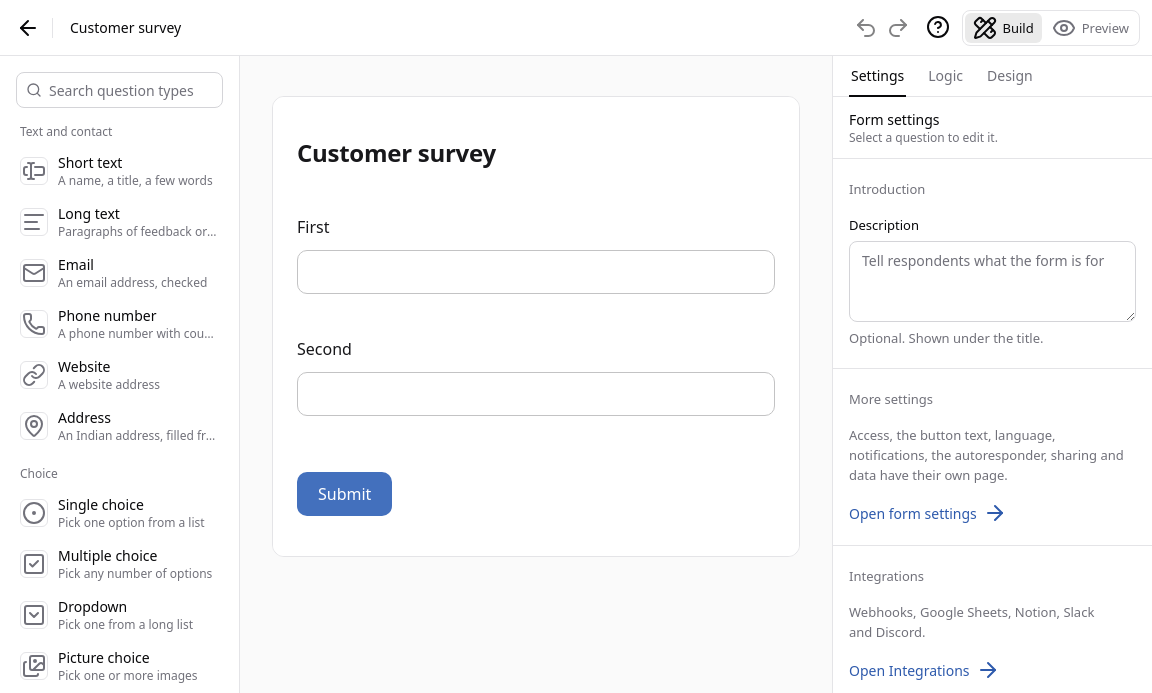
editor keyboard shortcuts › deselects with Escape, leaving an input first
Click the button named "First" at (536, 255), box top-left (281, 200), bottom-right (791, 310)
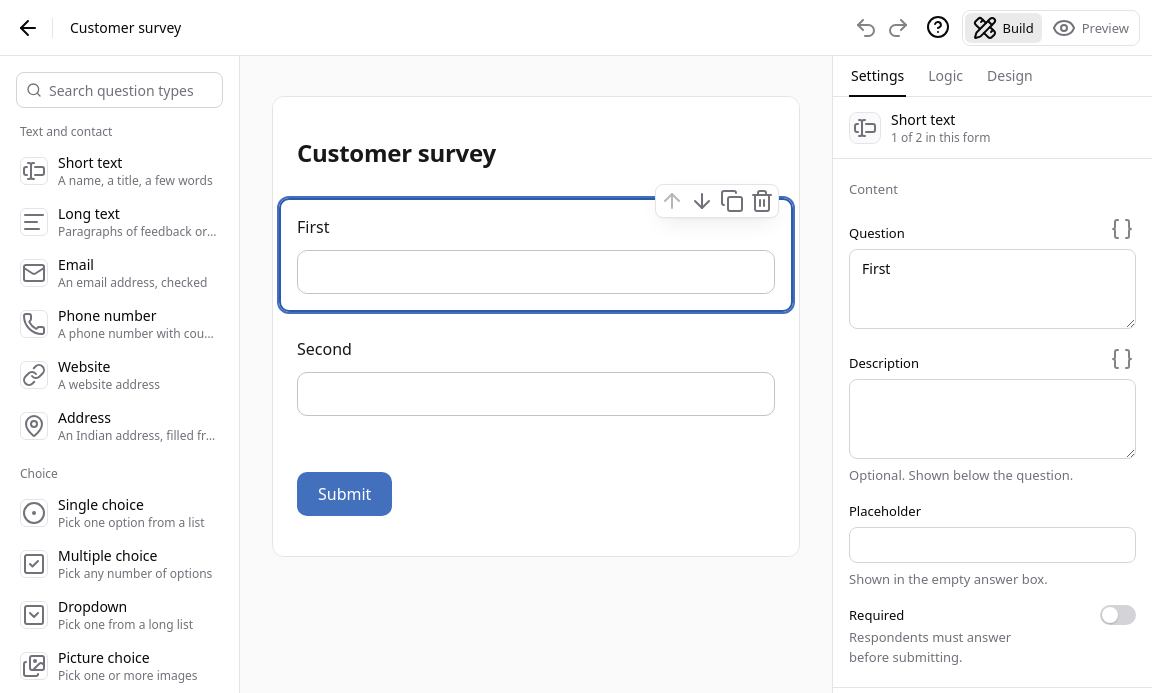
Click the text box labelled "Question" at (992, 289), box top-left (849, 249), bottom-right (1136, 329)
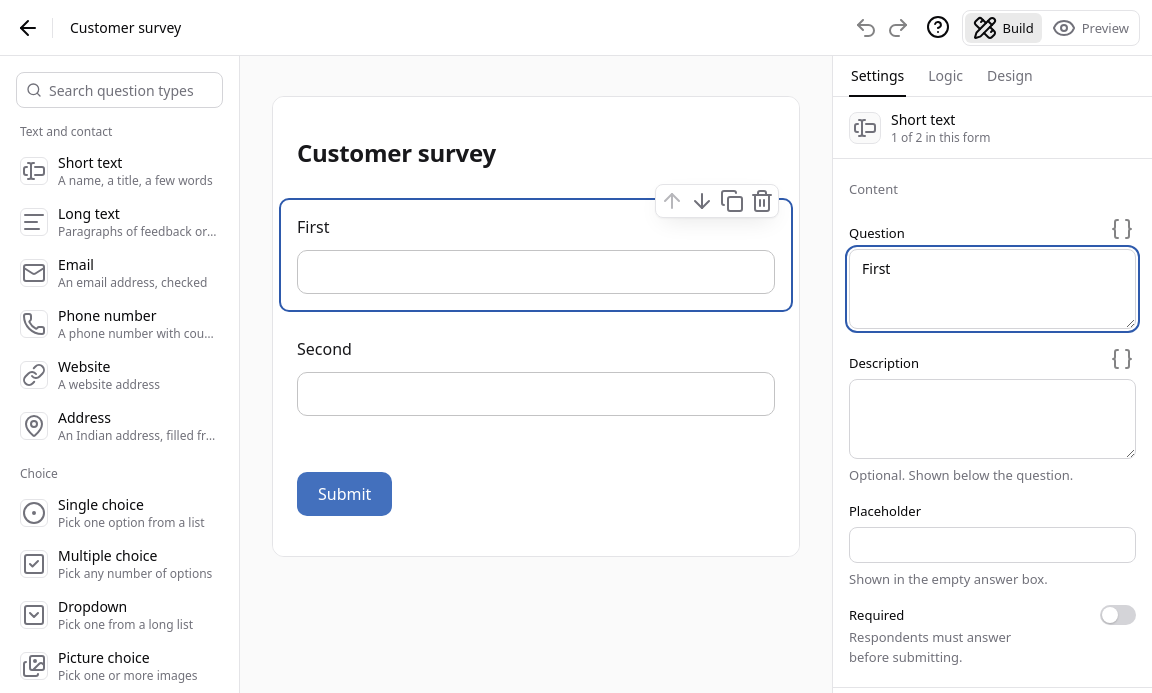
Press Escape
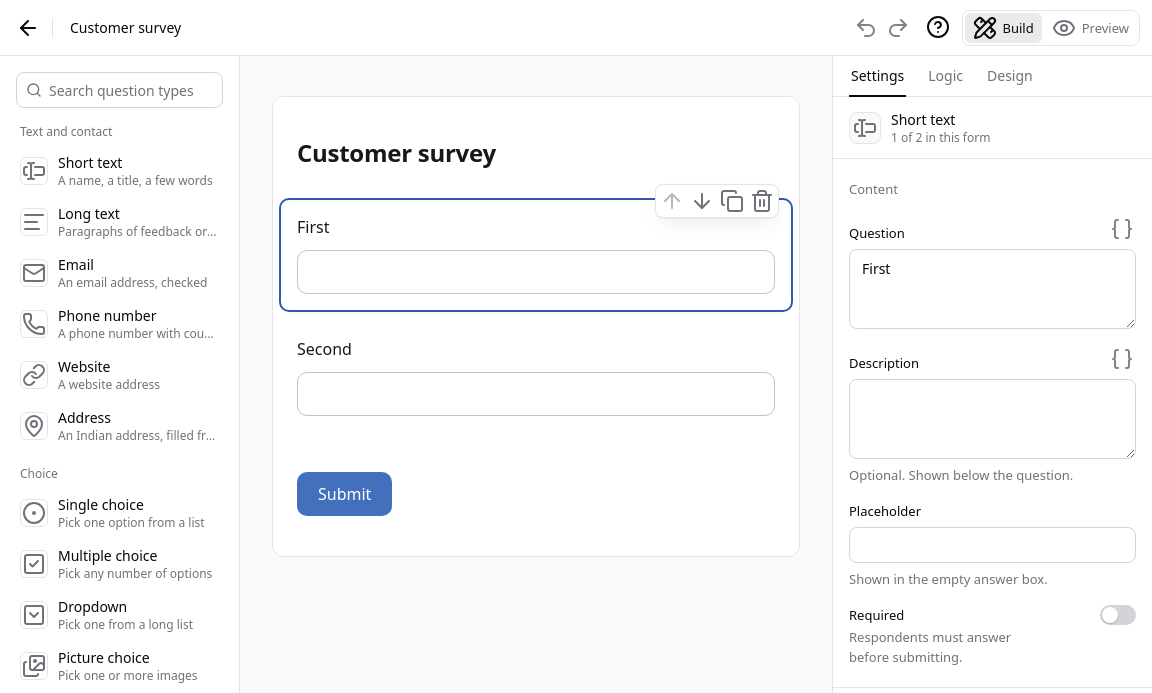
Press Escape
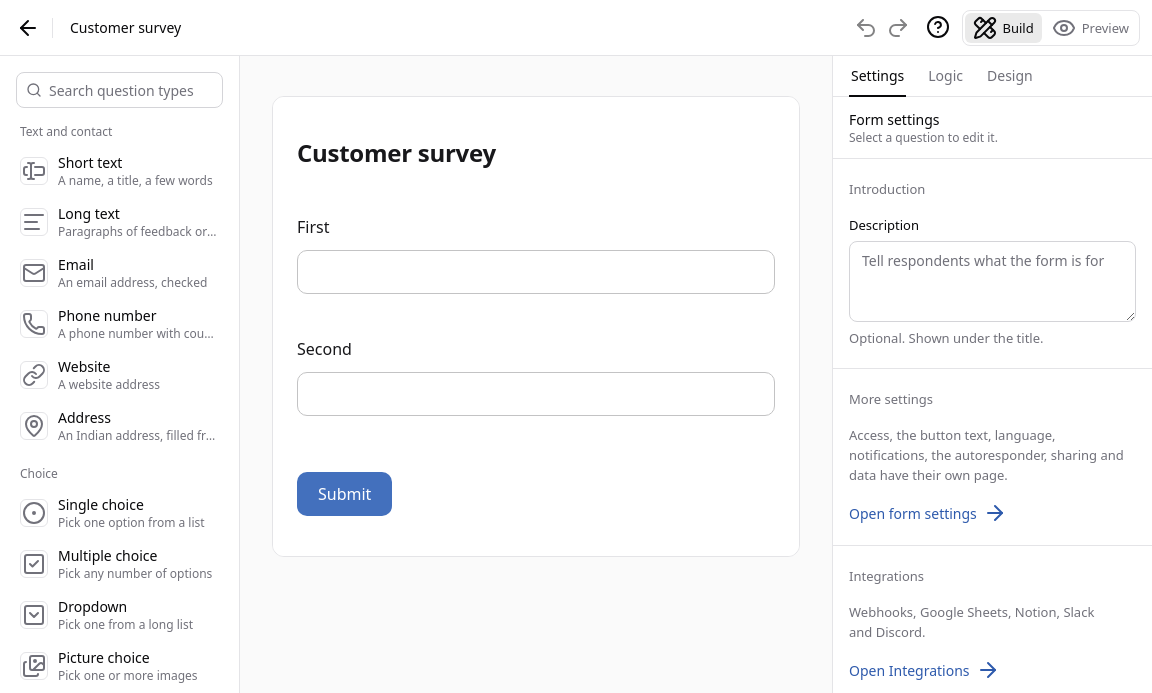
Expected: the heading "Form settings" is shown, top-left (849, 110), bottom-right (940, 129)
